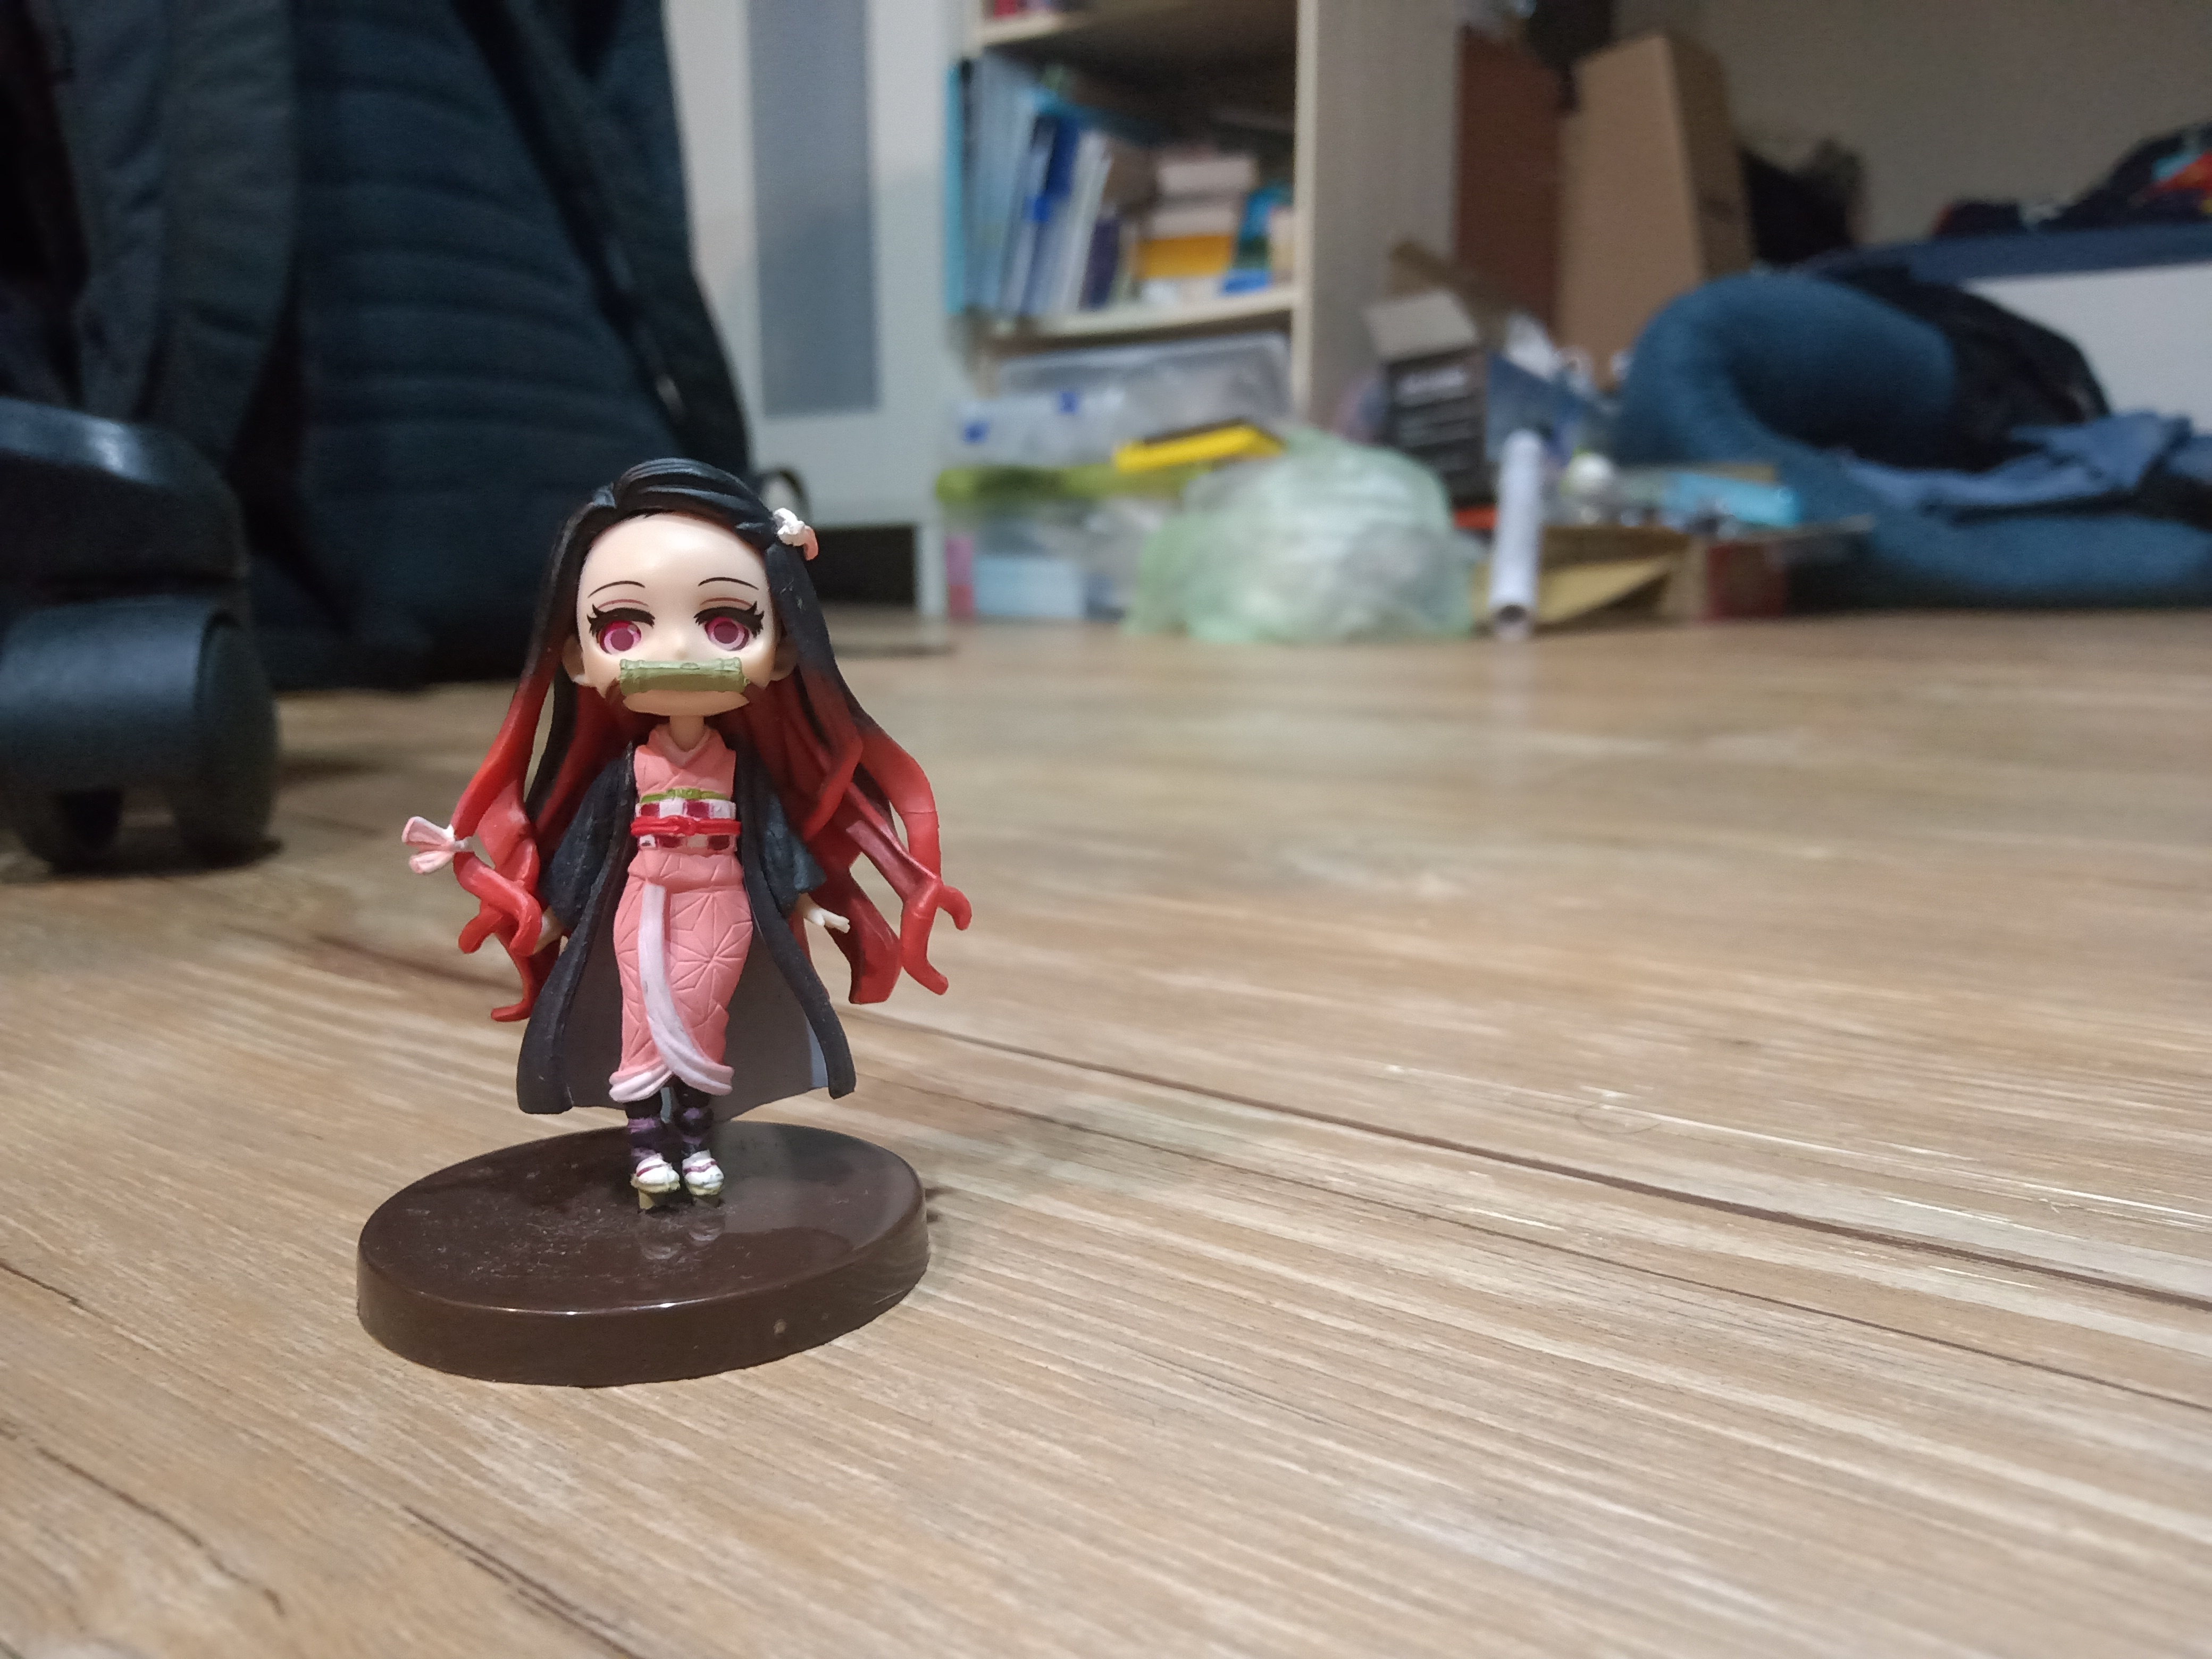Nezuko: (333, 444, 986, 1412)
